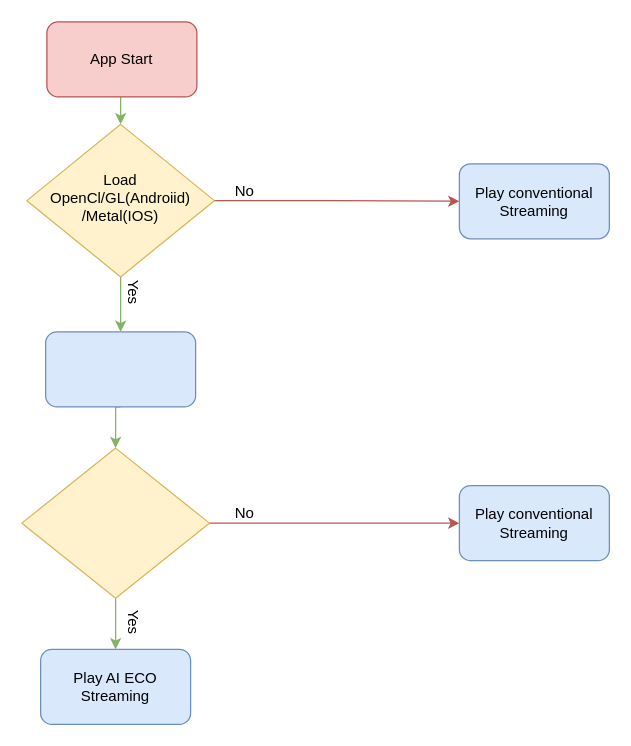
Image size: 631x746. Some labels were removed from this diagram. The shapes that lost their labels are listed below. From the top down, each one's centre as x and y in pixels, then its label:
At (120,369): "Load a AI Model".
At (115,522): "Is Realtime with AI? (Video FPS)".
